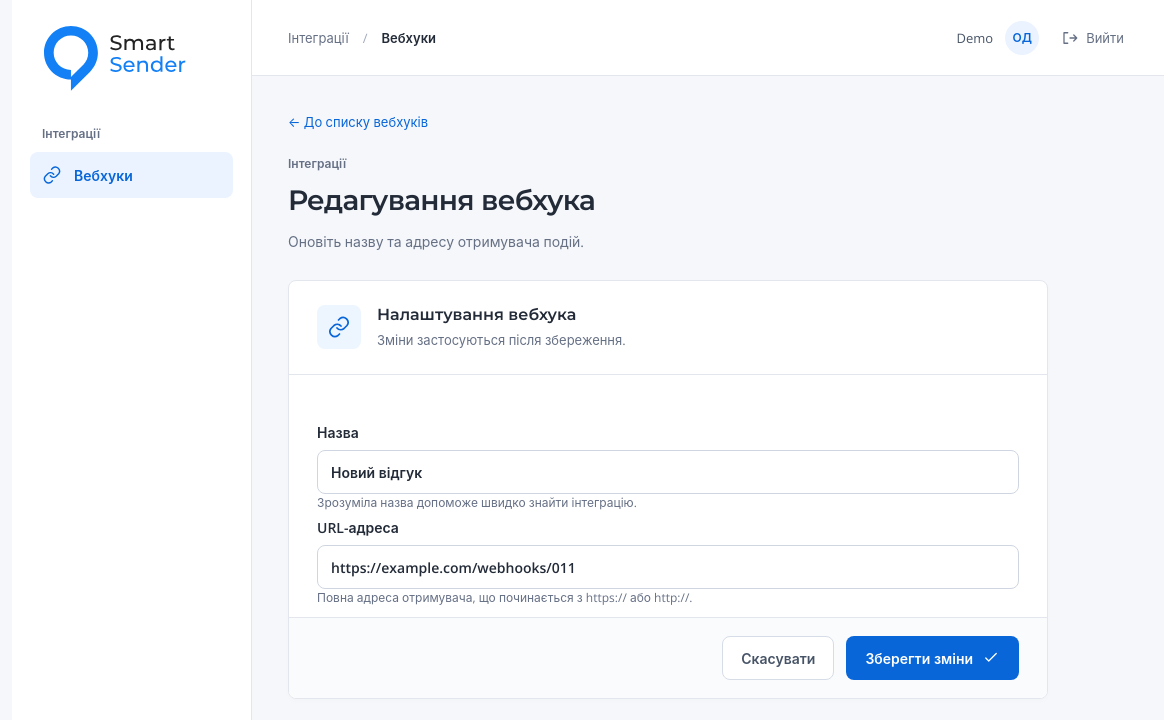
Test: EditWebhookActor component › falls back to the list when the editor is opened directly and save is used
Expected: the field labelled "Назва Зрозуміла назва допоможе швидко знайти інтеграцію." is shown, [317,450,1019,494]
Click the button "Зберегти зміни" at (933, 658), box [846,636,1019,680]
(page scrolled)
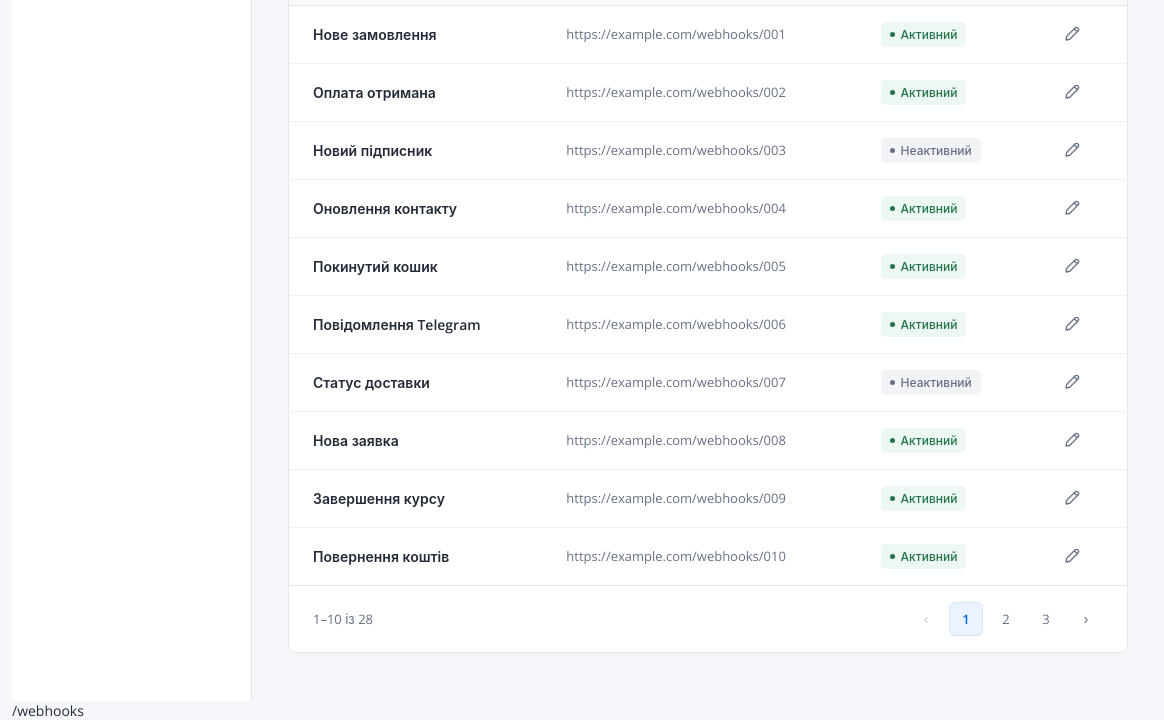
Result: the text named "location" reads "/webhooks" at [12,701,84,719]
